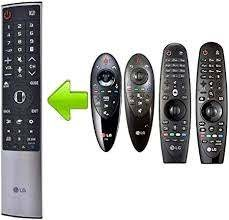remote control: (0, 0, 45, 220)
